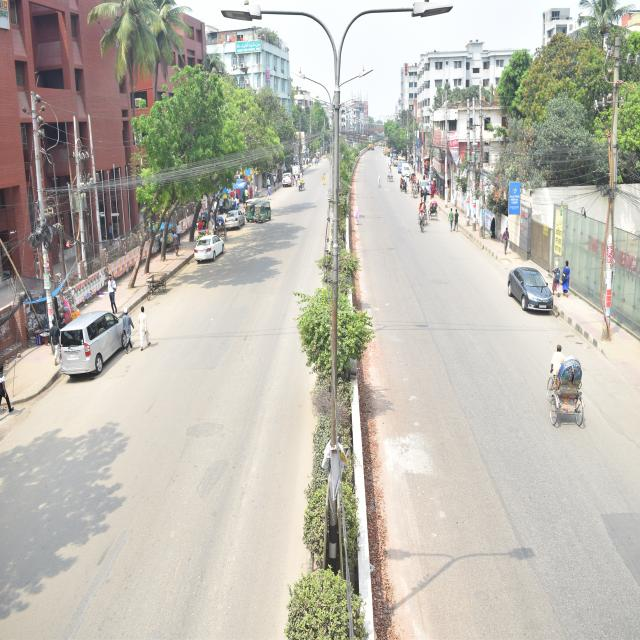car: (38, 282, 233, 394), (482, 234, 576, 339), (176, 214, 236, 296), (217, 202, 256, 248), (396, 156, 424, 186), (276, 166, 298, 200), (419, 172, 438, 209)
pickup-van: (289, 159, 310, 186)
